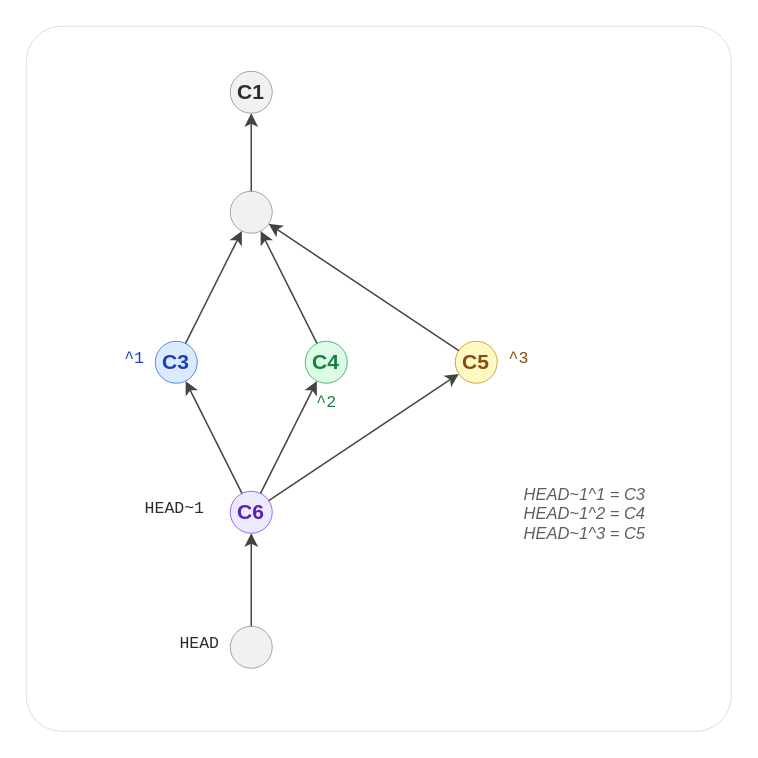
The diagram is 758 pixels wide and 758 high, and some of its shapes have lost their labels. The shapes that lost their labels are listed below. From the top down, each one's centre as x and y in pixels, then its label:
At pixel 250 211: "C2".
At pixel 250 646: "C7".
